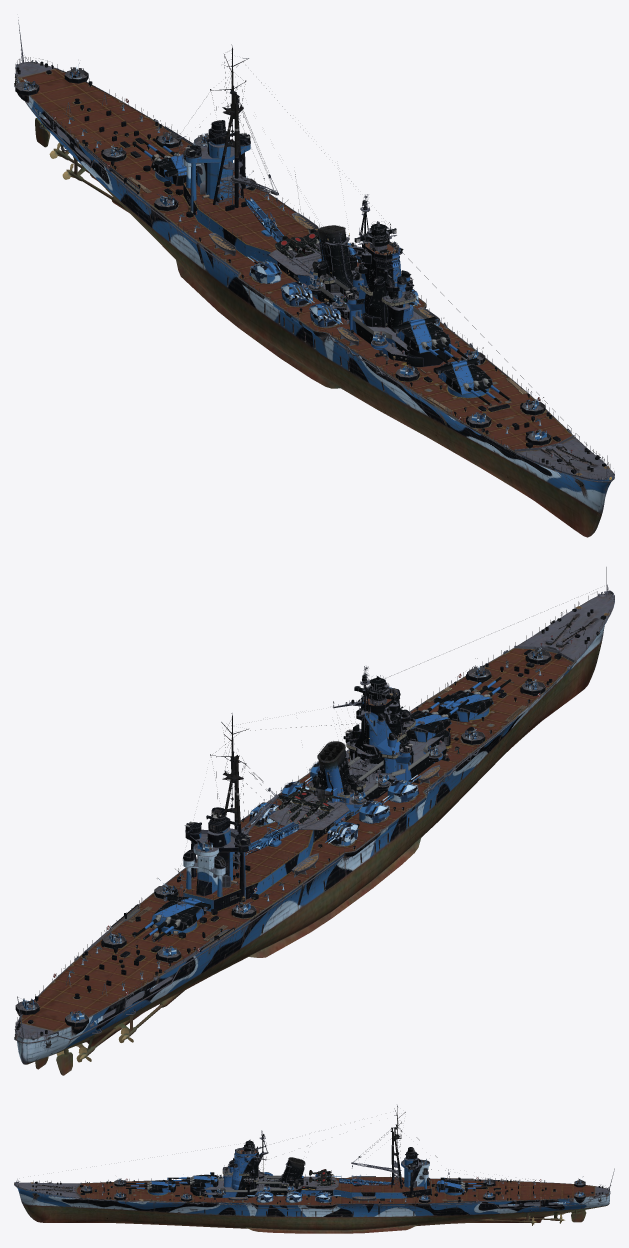
The model's file is ijn_super_heavy_cruiser_kumotori-maximum-compressed.glb.
3 renders of one model, top to bottom at view 1: azimuth 30°, elevation 25°; view 2: azimuth 150°, elevation 25°; view 3: azimuth 270°, elevation 25°, orthographic. The views are drawn at different scales.
Parts seen in each view (by area): view 1: cm002; view 2: cm002; view 3: cm002.
Part boxes in pixels (<box>): cm002: <box>14,17,614,537</box>; cm002: <box>14,567,614,1075</box>; cm002: <box>14,1105,614,1233</box>.
Size of the model in its own units: 0.4377 by 0.8267 by 3.8.
96 materials, 95 textured.
